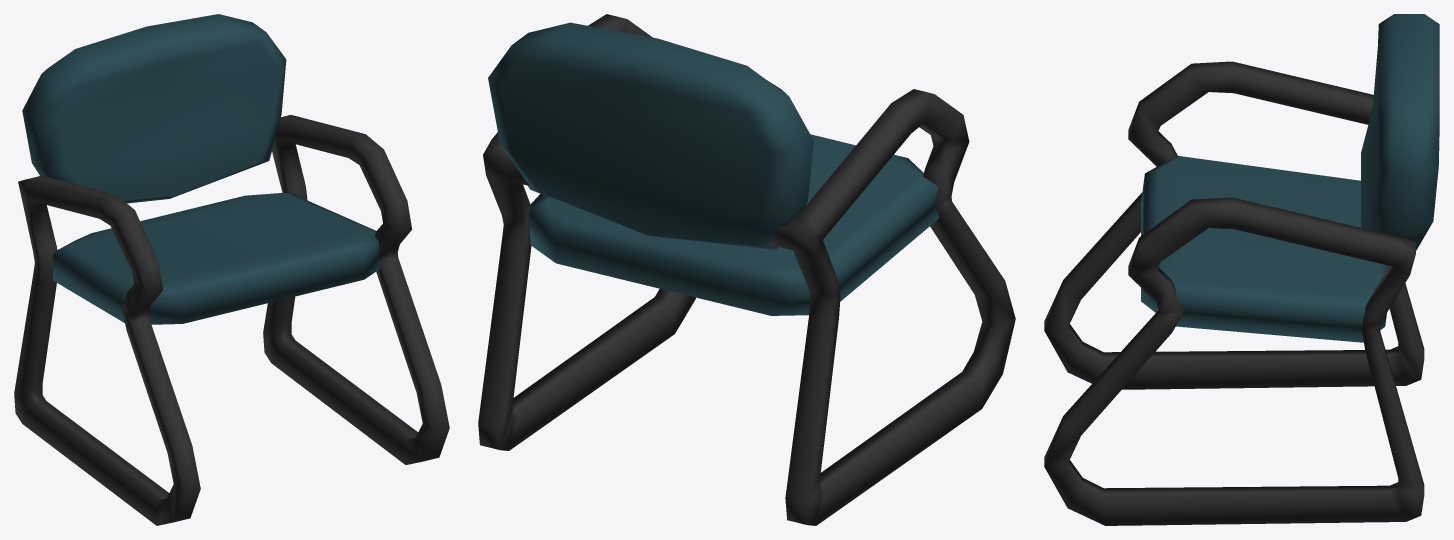
The model's file is mesh_officechair.fbx.
3 renders of one model, left to right at view 1: azimuth 30°, elevation 25°; view 2: azimuth 150°, elevation 25°; view 3: azimuth 270°, elevation 25°, orthographic. The views are drawn at different scales.
Parts seen in each view (by area): view 1: mesh_furniture_chair_04; view 2: mesh_furniture_chair_04; view 3: mesh_furniture_chair_04.
Part boxes in pixels (x1,y1,x2,y2): mesh_furniture_chair_04: (14, 14, 449, 525); mesh_furniture_chair_04: (478, 14, 1015, 525); mesh_furniture_chair_04: (1044, 14, 1439, 525).
Size of the model in its own units: 19.79 by 25.79 by 22.8.
